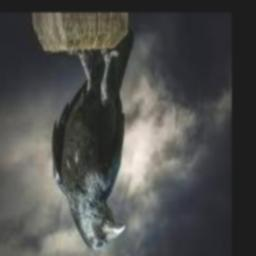Crow: (53, 33, 135, 250)
